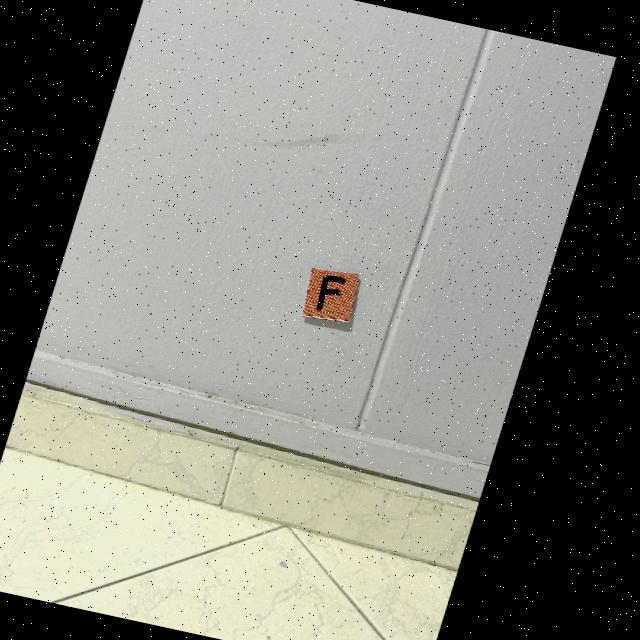F: (322, 276, 351, 311)
